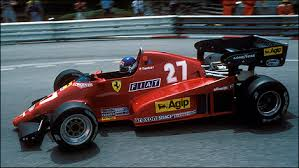f1_car: (9, 32, 299, 166)
